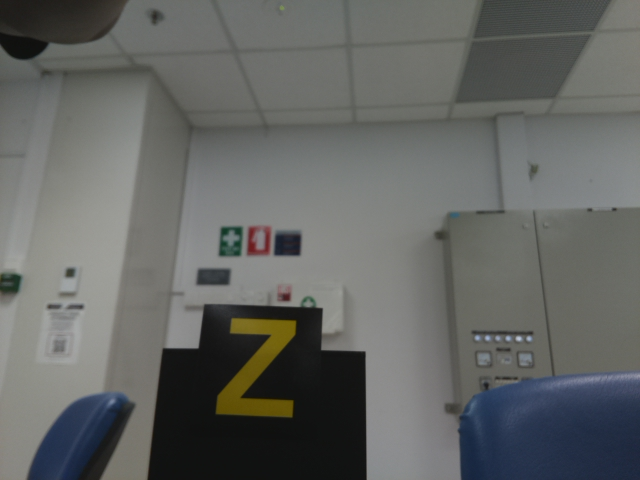z: (213, 314, 299, 432)
